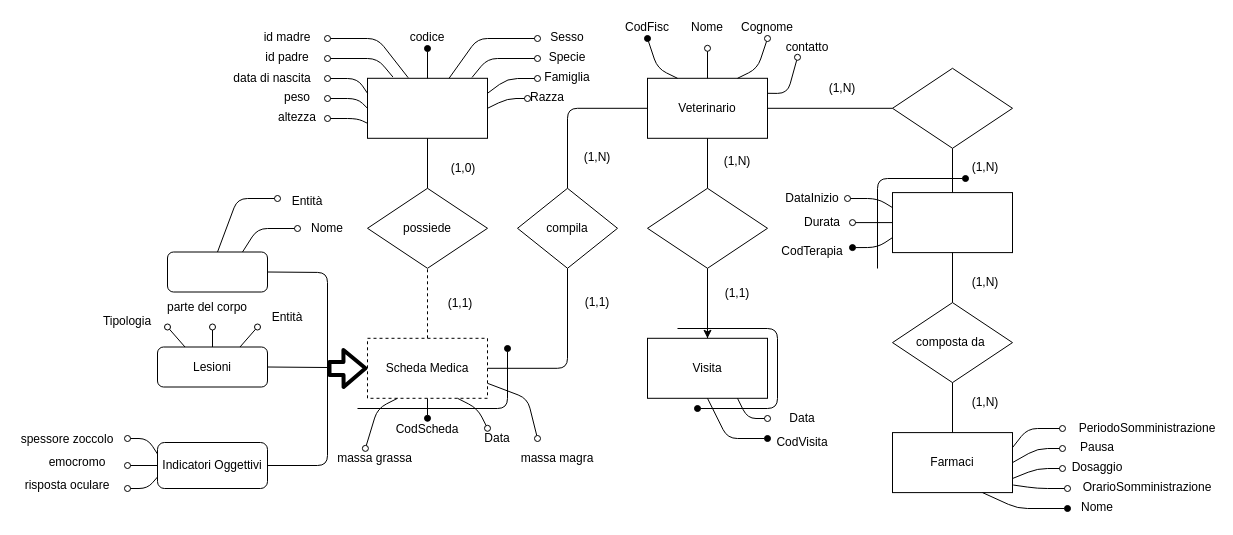
Some shapes in this 1233 by 535 pixel diagram are drawn without their labels. The shapes that lost their labels are listed below. From the top down, each one's box as (x1, y1, x2, y2) in pixels, then its label:
(366, 77, 488, 138): Animale
(892, 67, 1012, 148): prescrive
(646, 187, 768, 268): esegue
(892, 192, 1012, 253): Terapia
(166, 251, 268, 292): Disturbi Comportamentali
